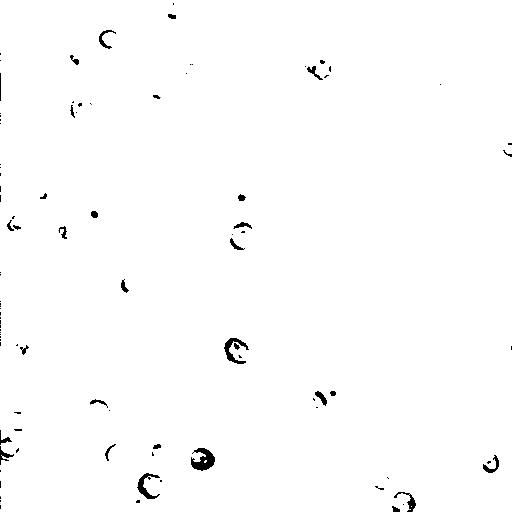micro-algae: (43, 379, 157, 494), (352, 1, 446, 75), (328, 429, 399, 499), (183, 380, 251, 451), (68, 91, 130, 159), (1, 53, 57, 120), (33, 324, 91, 382), (454, 32, 511, 89), (46, 132, 104, 188), (145, 356, 196, 409), (14, 92, 64, 144), (24, 1, 99, 33), (34, 413, 82, 463), (213, 352, 260, 394), (204, 19, 245, 60), (128, 394, 168, 434), (167, 391, 205, 426), (475, 137, 511, 171), (302, 51, 338, 82), (467, 78, 498, 113), (26, 176, 57, 210), (226, 221, 259, 252), (158, 0, 192, 27), (69, 95, 101, 123), (138, 472, 168, 501), (223, 336, 252, 366), (177, 54, 205, 83), (83, 399, 113, 426), (188, 447, 217, 473), (61, 47, 88, 73), (120, 268, 144, 297), (74, 203, 104, 225), (390, 490, 419, 512), (193, 1, 228, 19), (220, 451, 244, 475), (13, 338, 36, 363), (479, 449, 501, 475), (97, 28, 122, 50), (1, 436, 23, 461), (104, 442, 127, 465), (5, 410, 29, 432), (1, 452, 17, 485), (51, 225, 77, 245), (5, 212, 27, 235), (372, 475, 395, 497), (265, 92, 289, 113), (307, 390, 329, 412), (123, 490, 147, 509), (324, 381, 342, 403), (151, 443, 169, 461), (234, 191, 251, 208), (502, 141, 512, 158), (507, 420, 512, 445)
